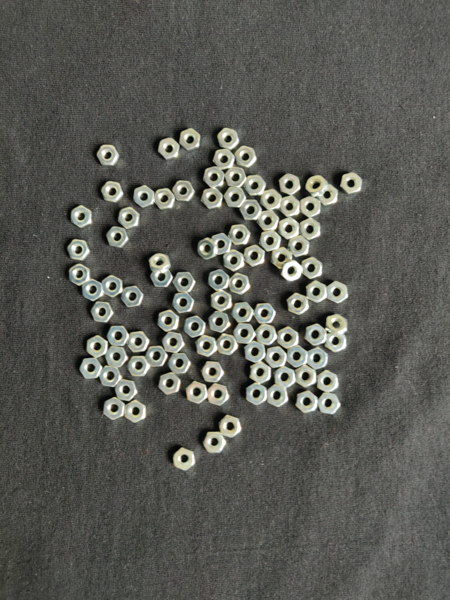nut: (173, 447, 196, 472), (124, 400, 147, 424), (219, 415, 242, 439), (295, 391, 319, 414), (194, 335, 218, 358), (172, 180, 196, 203), (158, 373, 181, 396), (185, 382, 208, 405), (157, 310, 180, 333), (287, 293, 310, 316), (288, 235, 311, 258), (267, 384, 289, 408), (105, 346, 129, 368), (162, 332, 186, 354), (278, 174, 302, 196), (103, 398, 125, 421), (318, 393, 341, 415), (246, 383, 268, 406), (100, 366, 123, 388), (80, 358, 103, 380), (274, 367, 297, 389), (295, 365, 317, 388), (317, 370, 339, 393), (216, 334, 239, 356), (287, 345, 309, 368), (255, 324, 278, 346), (277, 327, 299, 350), (305, 324, 328, 346), (172, 292, 195, 314), (121, 286, 144, 308), (82, 279, 104, 302), (68, 239, 91, 261), (306, 281, 328, 304), (280, 260, 303, 282), (302, 257, 324, 280), (271, 247, 293, 270), (259, 230, 282, 252), (118, 207, 140, 230), (71, 206, 93, 229), (158, 138, 180, 161), (201, 187, 224, 209), (300, 218, 322, 241), (278, 217, 300, 240), (235, 146, 258, 168), (218, 127, 240, 150), (201, 362, 225, 383), (253, 303, 277, 324), (91, 302, 115, 323), (106, 227, 130, 248), (116, 380, 138, 402), (265, 347, 287, 369), (184, 316, 206, 338), (232, 302, 254, 324), (69, 264, 91, 286), (211, 290, 233, 312), (208, 270, 230, 292), (229, 273, 251, 295), (223, 250, 245, 272), (102, 181, 124, 203), (154, 189, 176, 211), (300, 196, 322, 218), (317, 184, 339, 206), (204, 433, 227, 454), (250, 362, 271, 385), (168, 353, 191, 374), (145, 346, 168, 367), (87, 335, 108, 358), (127, 332, 150, 353), (107, 326, 130, 347), (308, 347, 329, 370), (208, 312, 231, 333), (173, 272, 196, 293), (102, 275, 123, 298), (244, 245, 265, 268), (228, 225, 251, 246), (97, 145, 120, 166), (134, 185, 155, 208), (180, 128, 201, 151), (224, 187, 247, 208), (306, 176, 329, 197), (280, 195, 301, 218), (244, 175, 267, 196), (224, 167, 247, 188), (213, 149, 236, 170), (208, 384, 229, 406), (245, 341, 266, 363), (326, 314, 348, 335), (328, 282, 349, 304), (341, 173, 363, 194), (261, 189, 283, 210), (128, 357, 151, 377), (233, 324, 256, 344), (198, 238, 218, 261), (257, 211, 280, 231), (204, 167, 225, 188), (149, 254, 171, 274), (212, 233, 232, 255), (240, 200, 262, 220), (325, 334, 347, 353), (150, 271, 173, 287)
